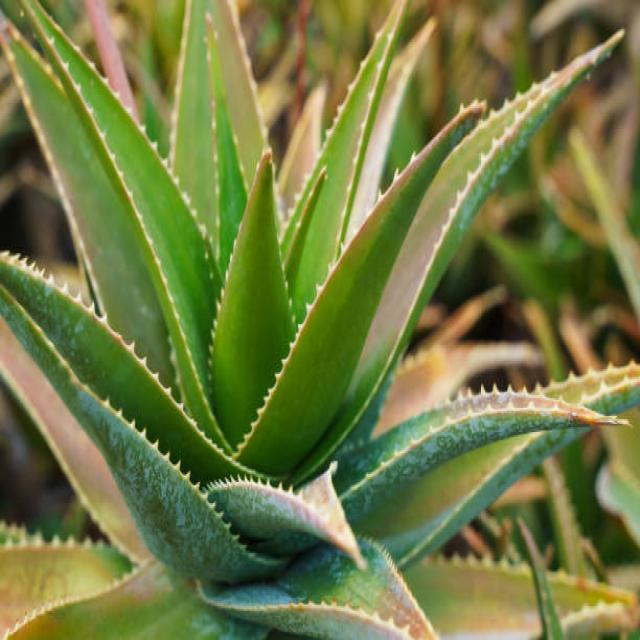AloeVera: (14, 53, 552, 572)
